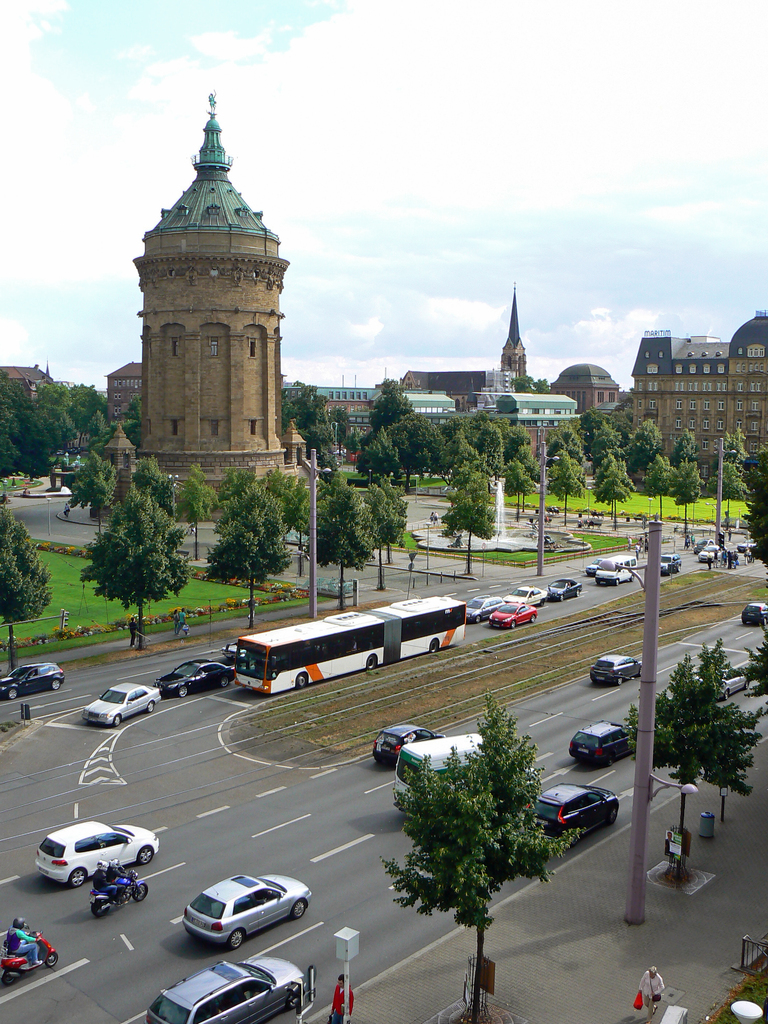Car: (146, 954, 309, 1023), (184, 870, 305, 945), (32, 823, 156, 881), (529, 786, 624, 846), (158, 657, 232, 699), (373, 723, 442, 767), (88, 683, 158, 725), (571, 723, 629, 767), (0, 666, 62, 702), (592, 657, 647, 688), (494, 608, 536, 634), (599, 557, 631, 588), (552, 581, 583, 604)
